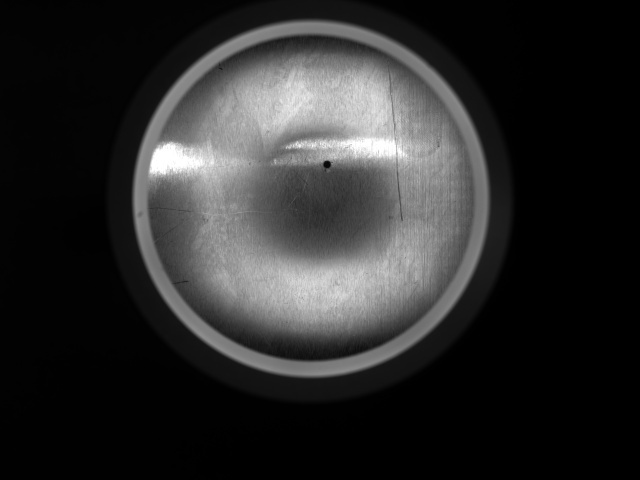ca_shang: (385, 61, 410, 227), (148, 198, 313, 217)
zhen_kong: (319, 155, 334, 175)
